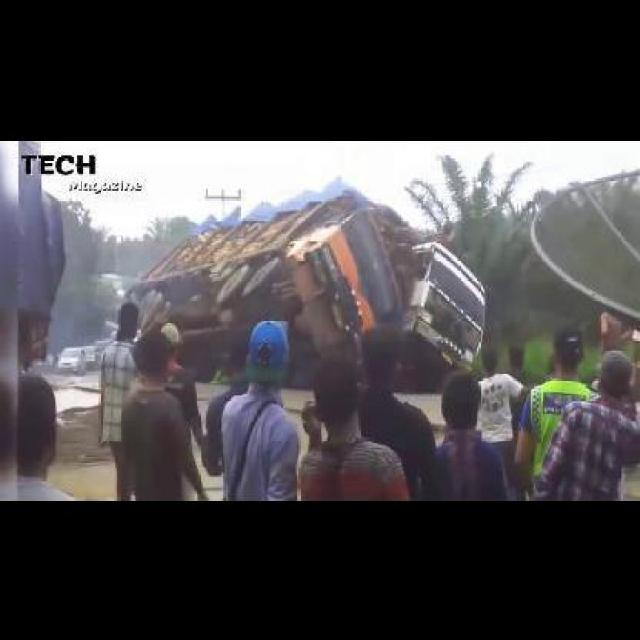accident: (123, 184, 495, 382)
